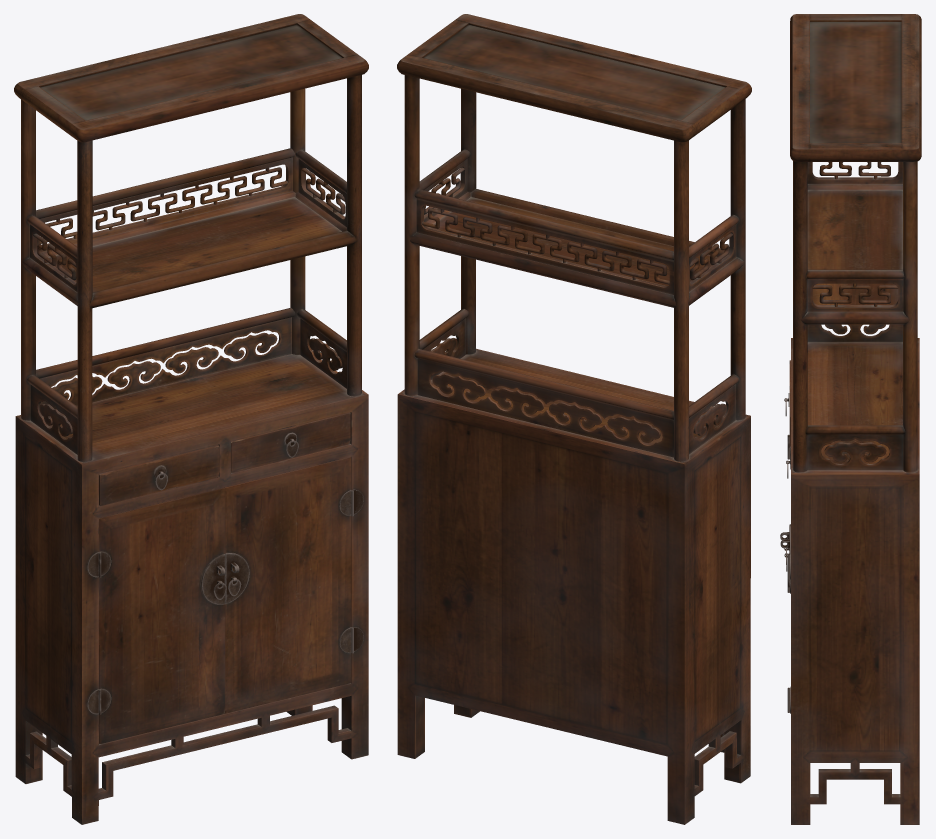
File: chinese_cabinet_2k.fbx
3 views of the same model, side by side, from view 1: azimuth 30°, elevation 25°; view 2: azimuth 150°, elevation 25°; view 3: azimuth 270°, elevation 25° (orthographic). The views are drawn at different scales.
Parts seen in each view (by area): view 1: chinese_cabinet; view 2: chinese_cabinet; view 3: chinese_cabinet.
Part boxes in pixels (left/top/right/bottom): chinese_cabinet: left=14, top=14, right=368, bottom=824; chinese_cabinet: left=397, top=14, right=751, bottom=824; chinese_cabinet: left=780, top=14, right=921, bottom=824.
Size of the model in its own units: 126 by 287 by 54.52.
1 material, 1 textured.
